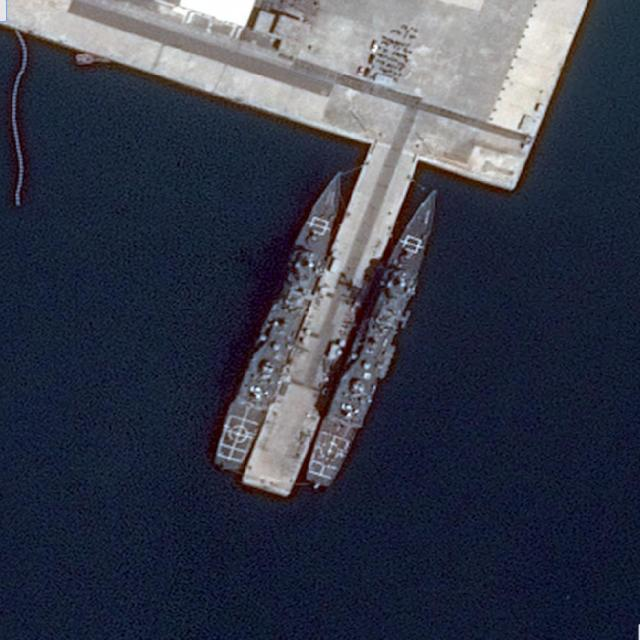Dock: (242, 141, 419, 493)
Frigate: (212, 163, 356, 471), (305, 180, 448, 489)
